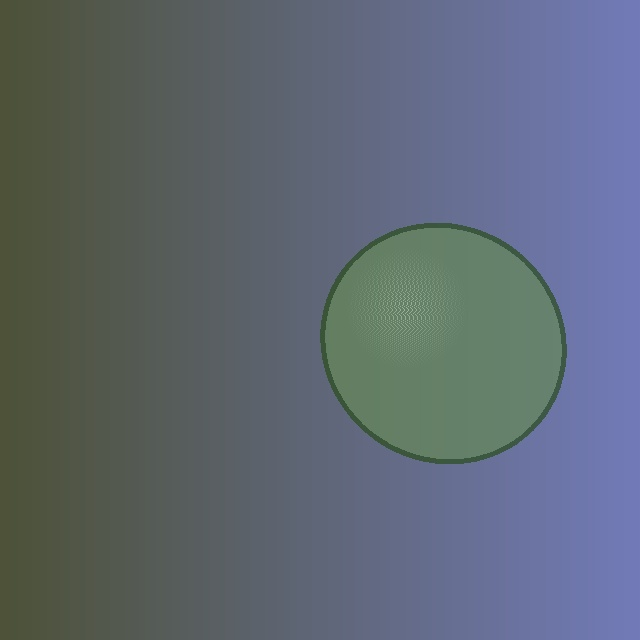lens: (322, 225, 564, 461)
